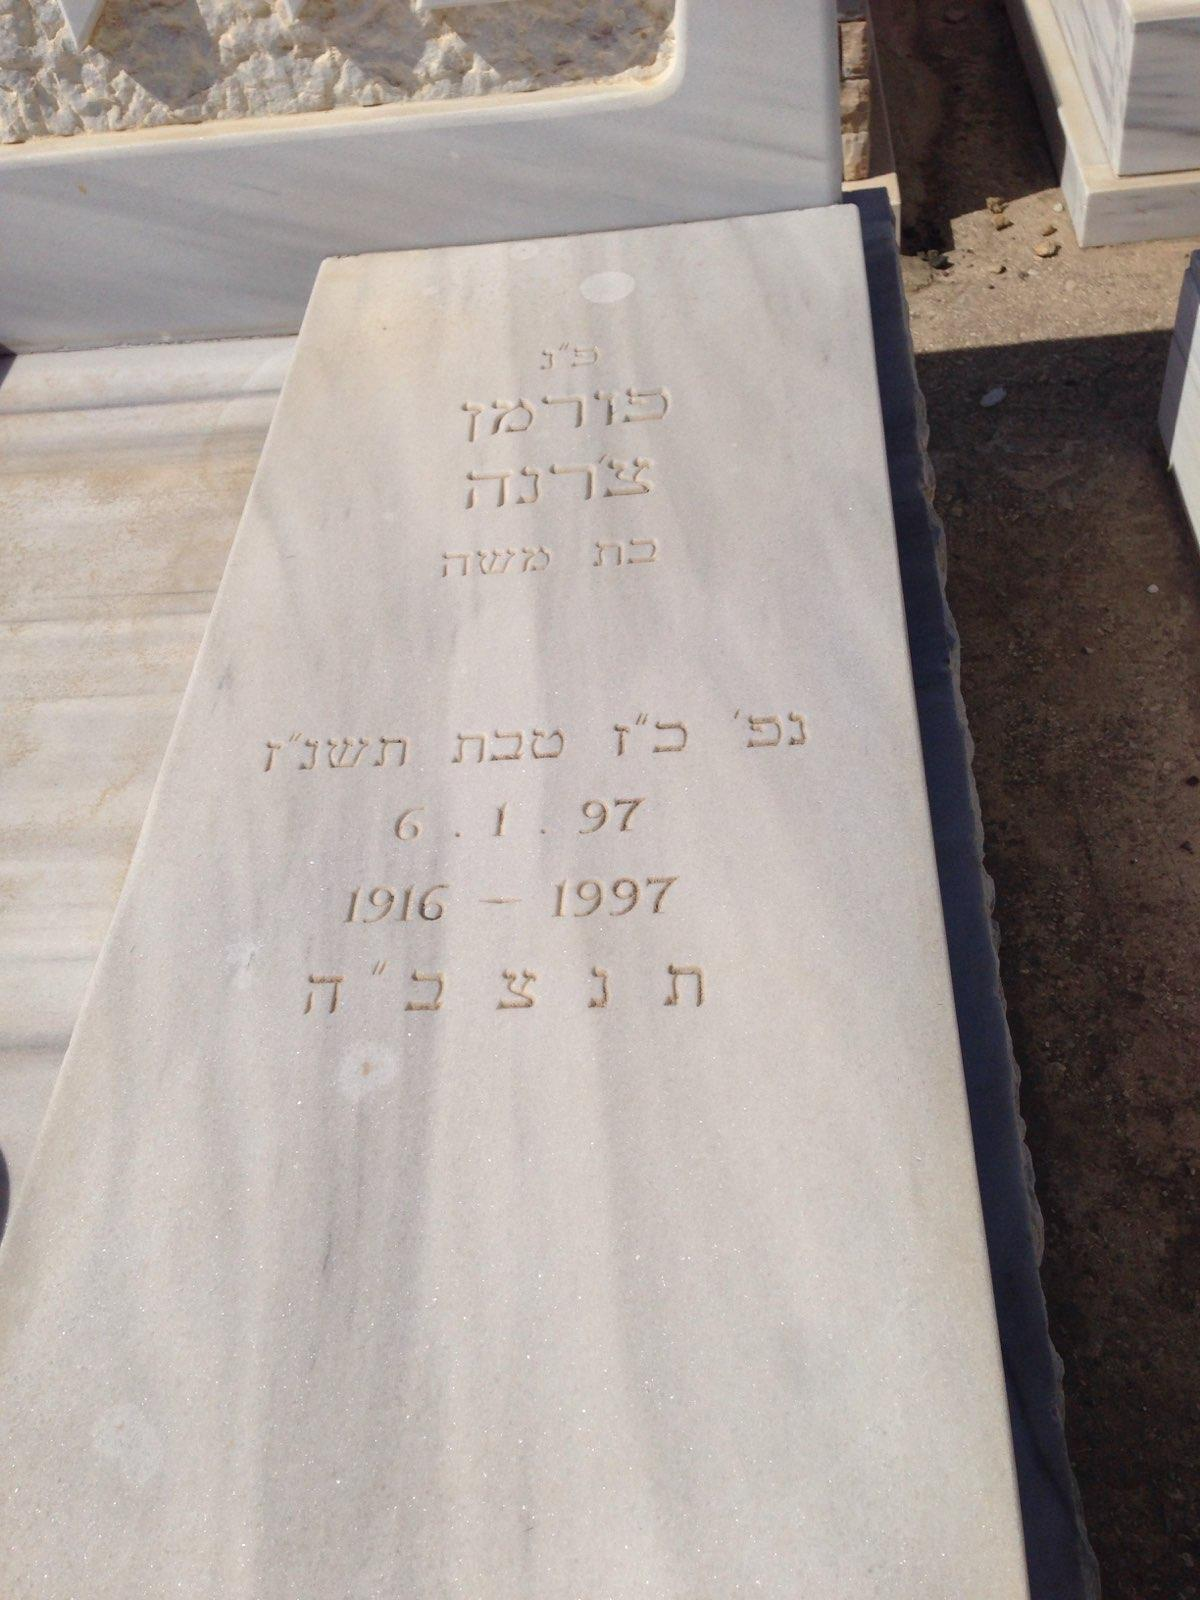vault: (0, 174, 1034, 1600)
